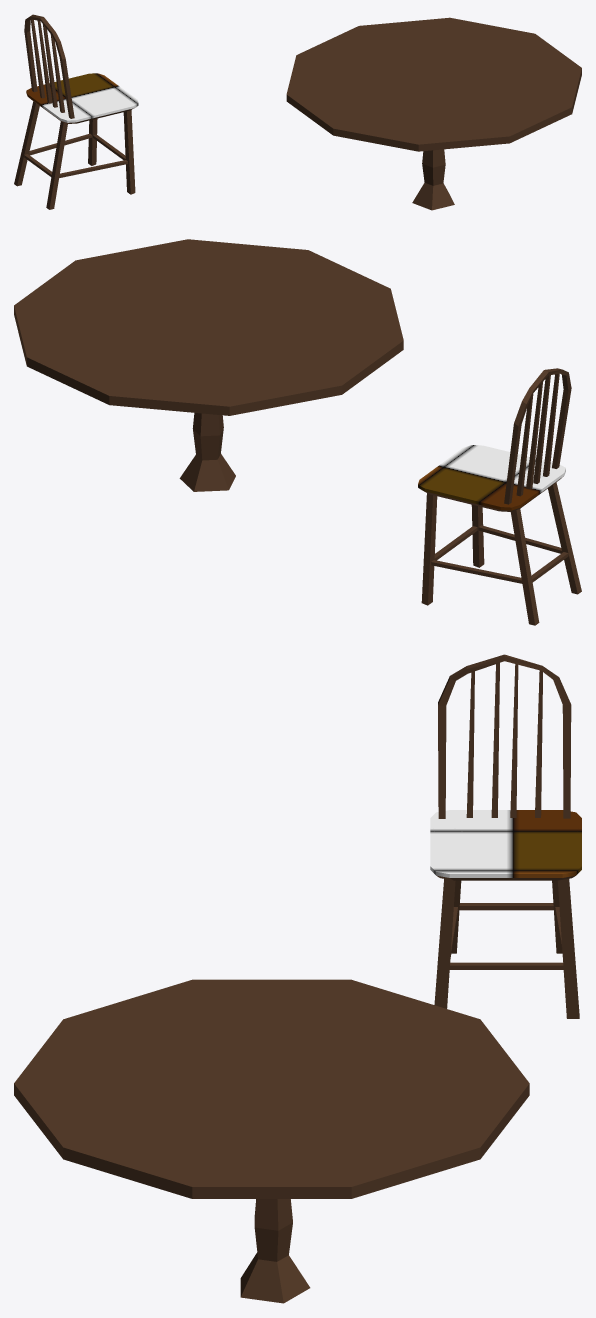
The model's file is SaloonObjects.dae.
3 renders of one model, top to bottom at view 1: azimuth 30°, elevation 25°; view 2: azimuth 150°, elevation 25°; view 3: azimuth 270°, elevation 25°, orthographic. The views are drawn at different scales.
Visible parts, largest first — view 1: WesternTable, WesternChair; view 2: WesternTable, WesternChair; view 3: WesternTable, WesternChair.
Boxes of the visible parts, x1,y1,x2,y2 form: WesternTable: (286, 17, 581, 210); WesternChair: (14, 14, 138, 209); WesternTable: (14, 239, 403, 491); WesternChair: (418, 368, 581, 625); WesternTable: (14, 979, 529, 1303); WesternChair: (430, 654, 581, 1018).
Size of the model in its own units: 4.96 by 3.12 by 2.2.
